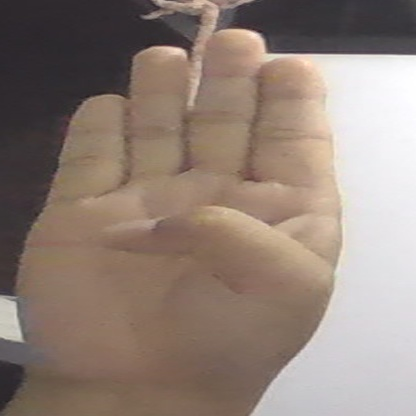B: (16, 30, 339, 405)
